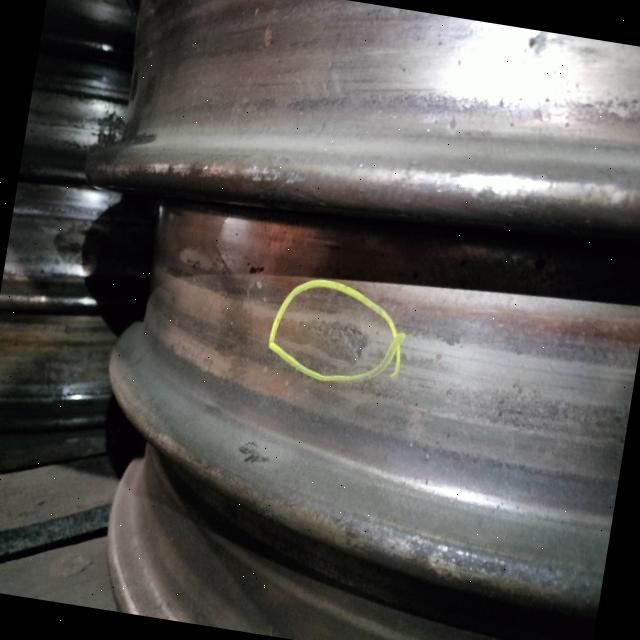Rollerpile: (285, 312, 379, 373)
